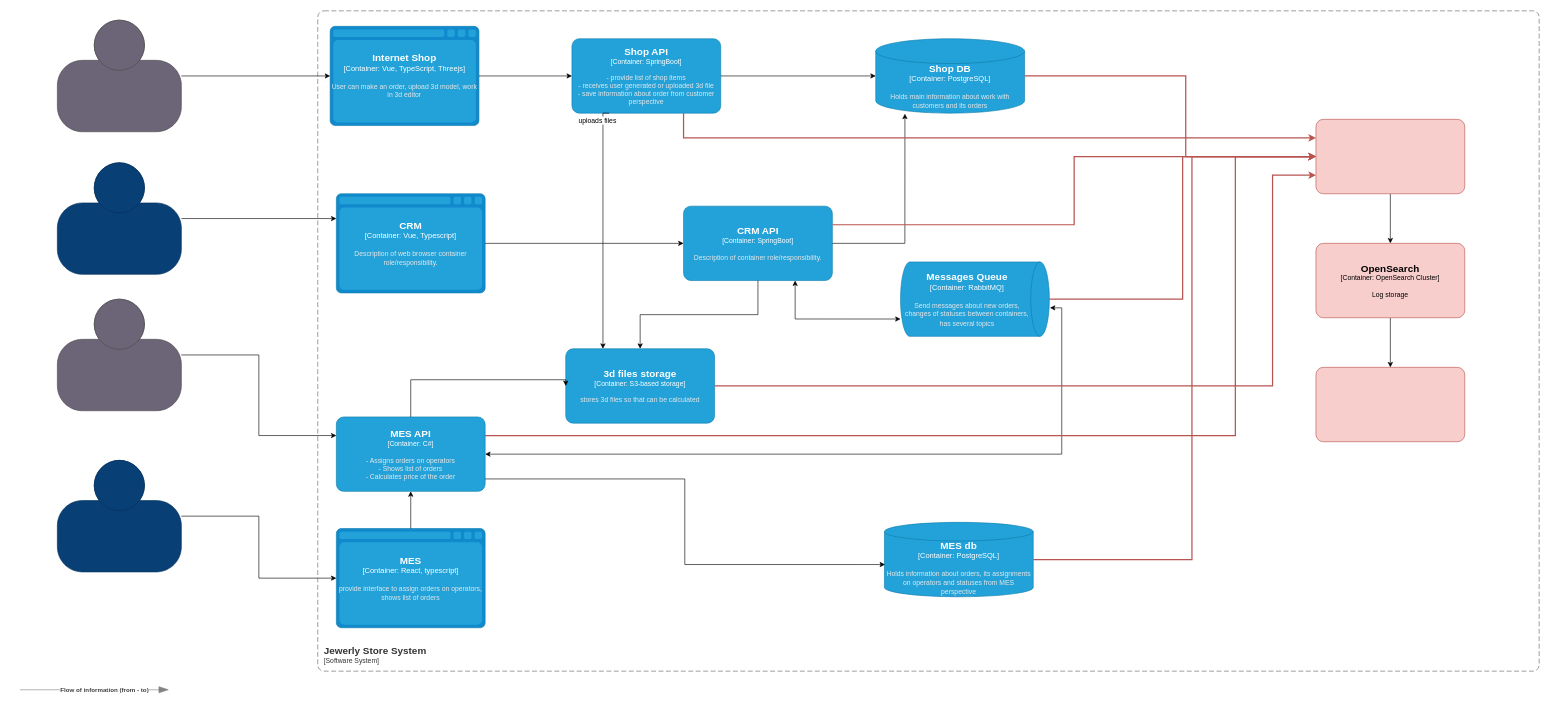
Image size: 1550x711. Some labels were removed from this diagram. The box of each missing label's shape, as (x1, y1, x2, y2) in pixels:
API user [Person] Description of external person.: (57, 299, 181, 411)
Customer [Person] Description of external person.: (57, 20, 181, 132)
FileBeat [Container: Log Connector] Collect logs: (1315, 119, 1465, 194)
OpenSearch Dashboards [Container: Dashboards] Search UI: (1315, 367, 1465, 442)
Operator [Person] Takes order in work, manufactures jewerly: (57, 460, 181, 572)
Seller [Person] Operates with order, confirms manufacturing for the user: (57, 162, 181, 274)
